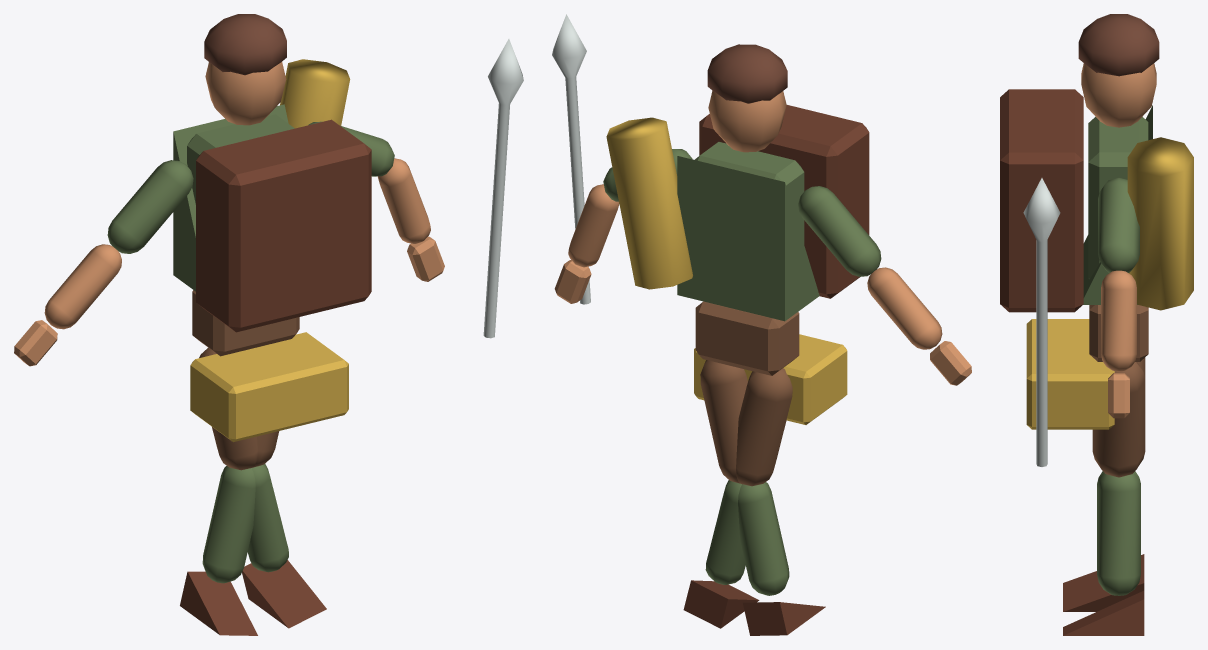
Rendered from adventurer.rustic.glb.
3 renders of one model, left to right at view 1: azimuth 30°, elevation 25°; view 2: azimuth 150°, elevation 25°; view 3: azimuth 270°, elevation 25°, orthographic. The views are drawn at different scales.
Visible parts, largest first — view 1: accessory.body, accessory.waist, shin.right, accessory.main-hand, upper-arm.left, hair, accessory.back, head, forearm.left, foot.left, foot.right, tunic (+8 smaller); view 2: tunic, accessory.back, accessory.body, pelvis, thigh.left, accessory.waist, shin.right, upper-arm.left, hair, thigh.right, head, forearm.left (+8 smaller); view 3: accessory.body, accessory.back, accessory.waist, shin.left, hair, accessory.main-hand, torso, head, thigh.right, forearm.right, upper-arm.right, foot.left (+4 smaller).
Boxes of the visible parts, bbox=[...] form: accessory.body: bbox=[196, 119, 371, 332]; accessory.waist: bbox=[190, 332, 348, 442]; shin.right: bbox=[202, 466, 255, 583]; accessory.main-hand: bbox=[483, 39, 523, 338]; upper-arm.left: bbox=[107, 160, 193, 253]; hair: bbox=[204, 14, 286, 75]; accessory.back: bbox=[280, 59, 350, 128]; head: bbox=[205, 62, 286, 125]; forearm.left: bbox=[44, 244, 121, 329]; foot.left: bbox=[242, 560, 326, 628]; foot.right: bbox=[180, 571, 257, 635]; tunic: bbox=[173, 104, 288, 291]; tunic: bbox=[677, 156, 819, 321]; accessory.back: bbox=[606, 117, 692, 289]; accessory.body: bbox=[699, 105, 869, 298]; pelvis: bbox=[695, 301, 799, 375]; thigh.left: bbox=[736, 368, 792, 486]; accessory.waist: bbox=[694, 334, 847, 424]; shin.right: bbox=[738, 482, 789, 595]; upper-arm.left: bbox=[798, 186, 881, 276]; hair: bbox=[707, 44, 787, 103]; thigh.right: bbox=[700, 360, 747, 483]; head: bbox=[708, 90, 786, 152]; forearm.left: bbox=[867, 267, 942, 349]; accessory.body: bbox=[1000, 89, 1083, 312]; accessory.back: bbox=[1127, 137, 1193, 310]; accessory.waist: bbox=[1026, 319, 1114, 429]; shin.left: bbox=[1097, 472, 1140, 595]; hair: bbox=[1078, 14, 1159, 76]; accessory.main-hand: bbox=[1023, 178, 1060, 466]; torso: bbox=[1088, 117, 1148, 278]; head: bbox=[1081, 63, 1156, 127]; thigh.right: bbox=[1092, 362, 1145, 477]; forearm.right: bbox=[1101, 270, 1136, 371]; upper-arm.right: bbox=[1098, 178, 1139, 272]; foot.left: bbox=[1063, 590, 1144, 635].
Size of the model in its own units: 2.48 by 3.01 by 0.88.
